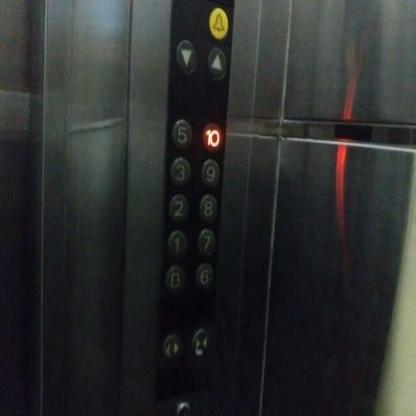1: (166, 228, 187, 258)
10: (202, 122, 222, 152)
2: (167, 193, 189, 224)
3: (168, 156, 191, 186)
5: (170, 118, 192, 148)
6: (194, 262, 214, 288)
7: (197, 227, 215, 256)
8: (198, 192, 218, 221)
9: (199, 157, 219, 186)
B: (164, 264, 184, 292)
alarm: (207, 5, 229, 39)
close: (190, 327, 210, 358)
down: (174, 38, 198, 75)
open: (161, 333, 182, 362)
up: (203, 45, 227, 80)
